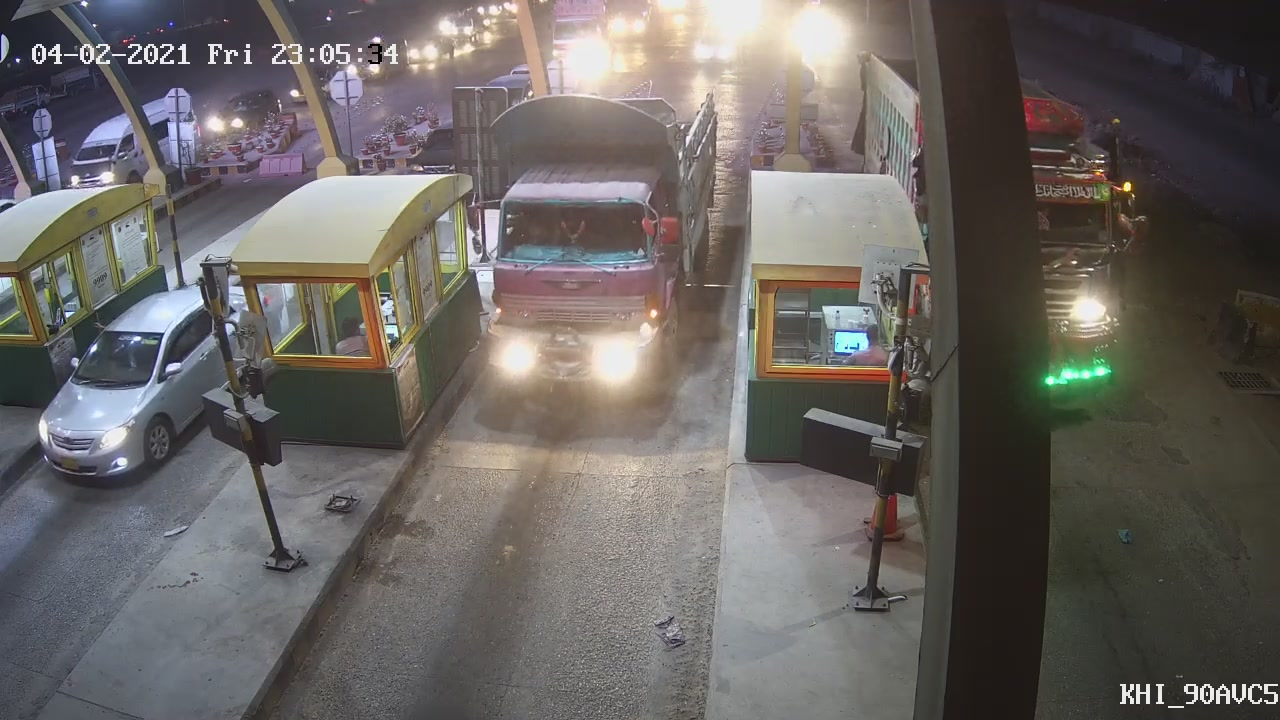F5: (477, 95, 704, 414)
